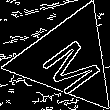M_NE: (32, 26, 104, 93)
